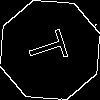T: (25, 25, 77, 68)
